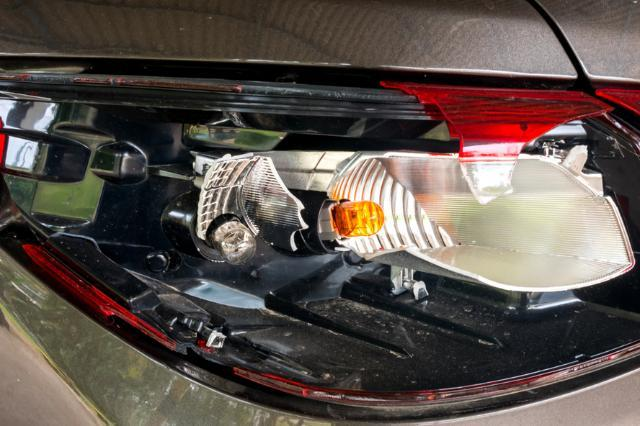Light: (0, 52, 640, 394)
